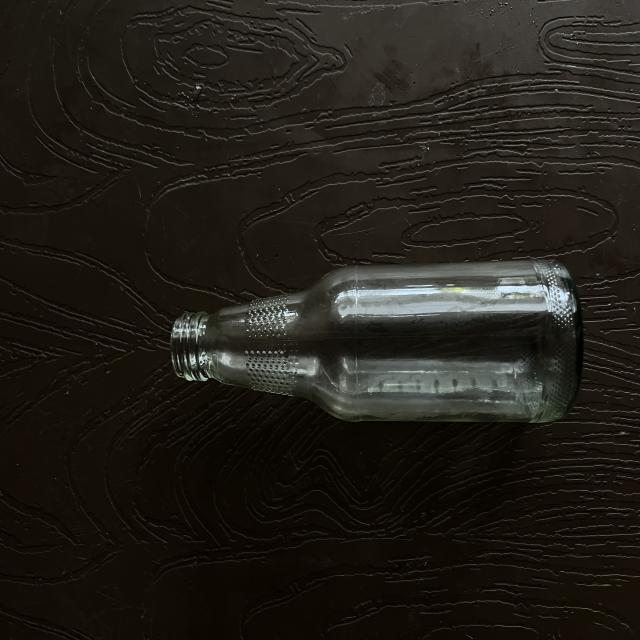Glass_Bottle: (171, 260, 582, 422)
